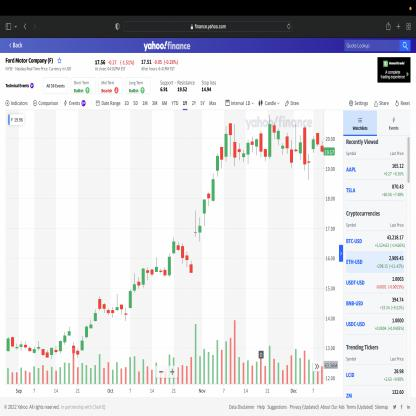Bullish Abandoned Baby: (119, 287, 132, 323)
